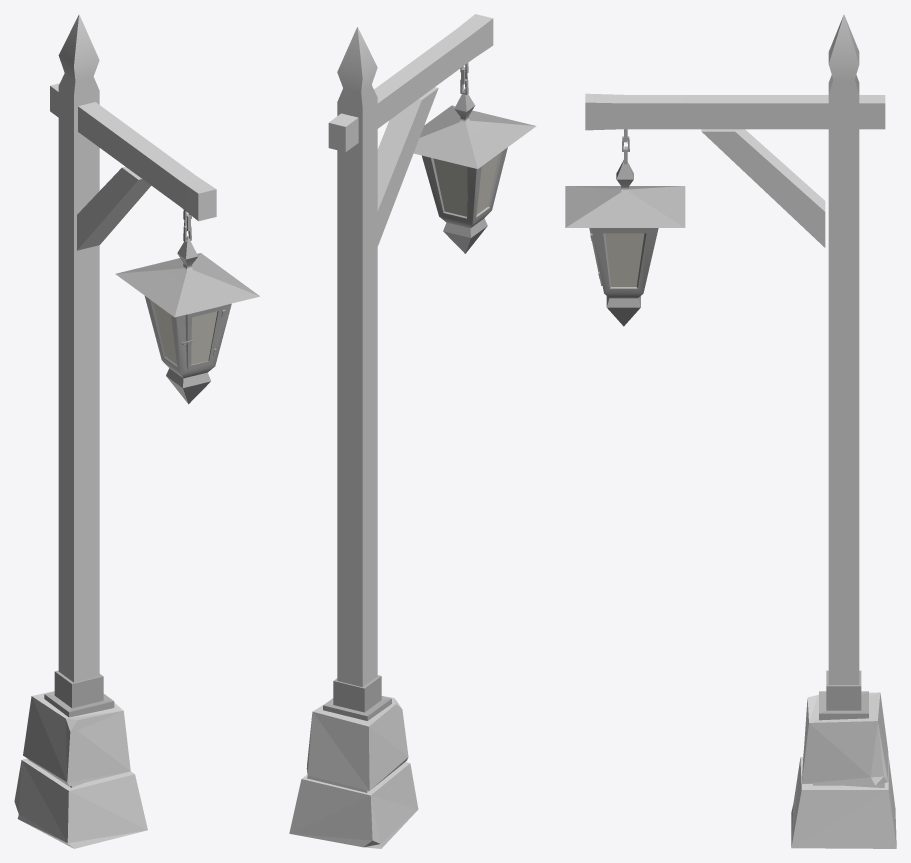
Rendered from PT_Street_Lamp_02.fbx.
3 renders of one model, left to right at view 1: azimuth 30°, elevation 25°; view 2: azimuth 150°, elevation 25°; view 3: azimuth 270°, elevation 25°, orthographic.
Visible parts, largest first — view 1: PT_Street_Lamp_02; view 2: PT_Street_Lamp_02; view 3: PT_Street_Lamp_02.
Boxes of the visible parts, x1=… form: PT_Street_Lamp_02: x1=14, y1=14, x2=259, y2=848; PT_Street_Lamp_02: x1=289, y1=14, x2=536, y2=848; PT_Street_Lamp_02: x1=565, y1=14, x2=896, y2=848.
Size of the model in its own units: 47.22 by 425 by 157.
Materials: 1 (1 with a texture image).
